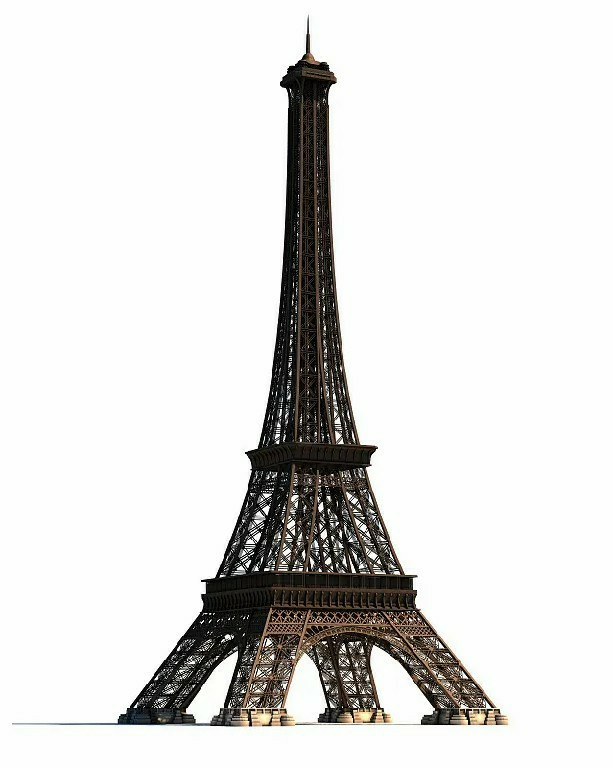Eiffel: (117, 14, 508, 725)
